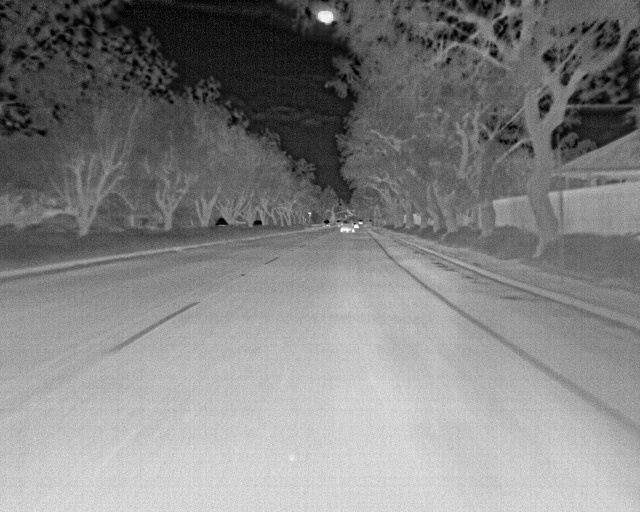vehicle: (338, 220, 356, 234)
